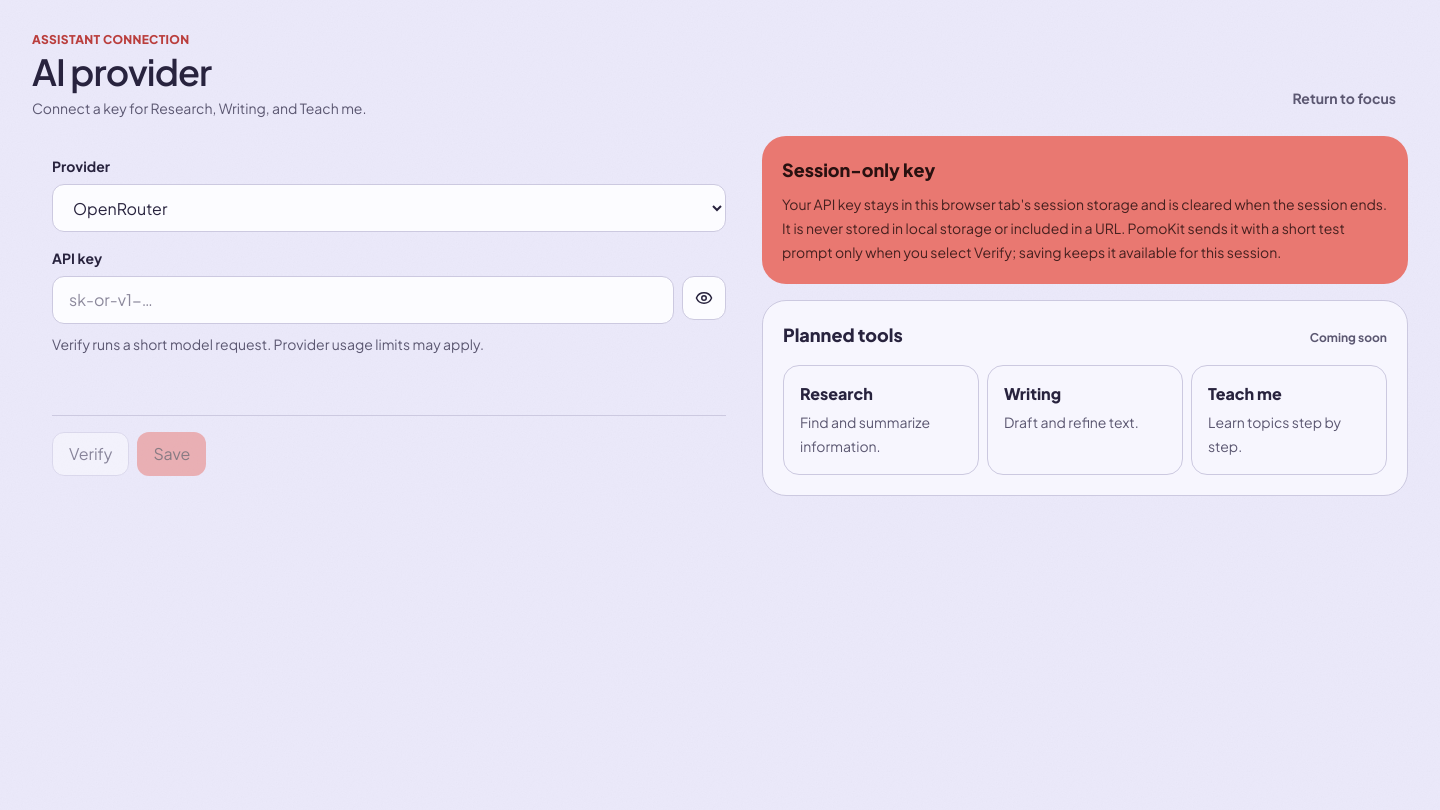
Test: AssistantSettings › shows the provider error in the verification dialog
This screenshot has width=1440, height=810.
Type "sk-or-invalid-token-12345" into the password field labelled "API key" at x=363, y=300, box [52,276,674,324]
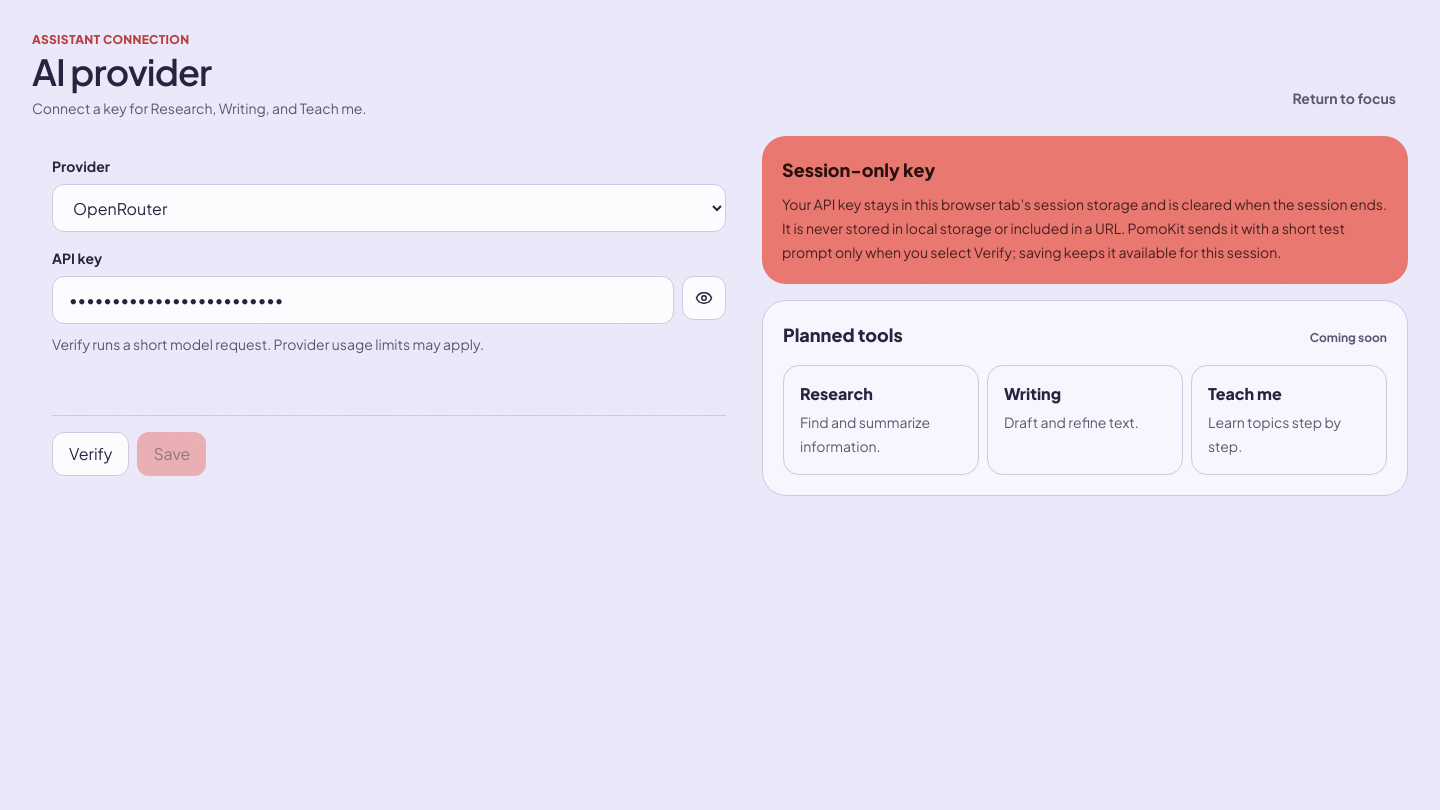
Click the button "Verify" at x=91, y=454, box [52,432,129,476]
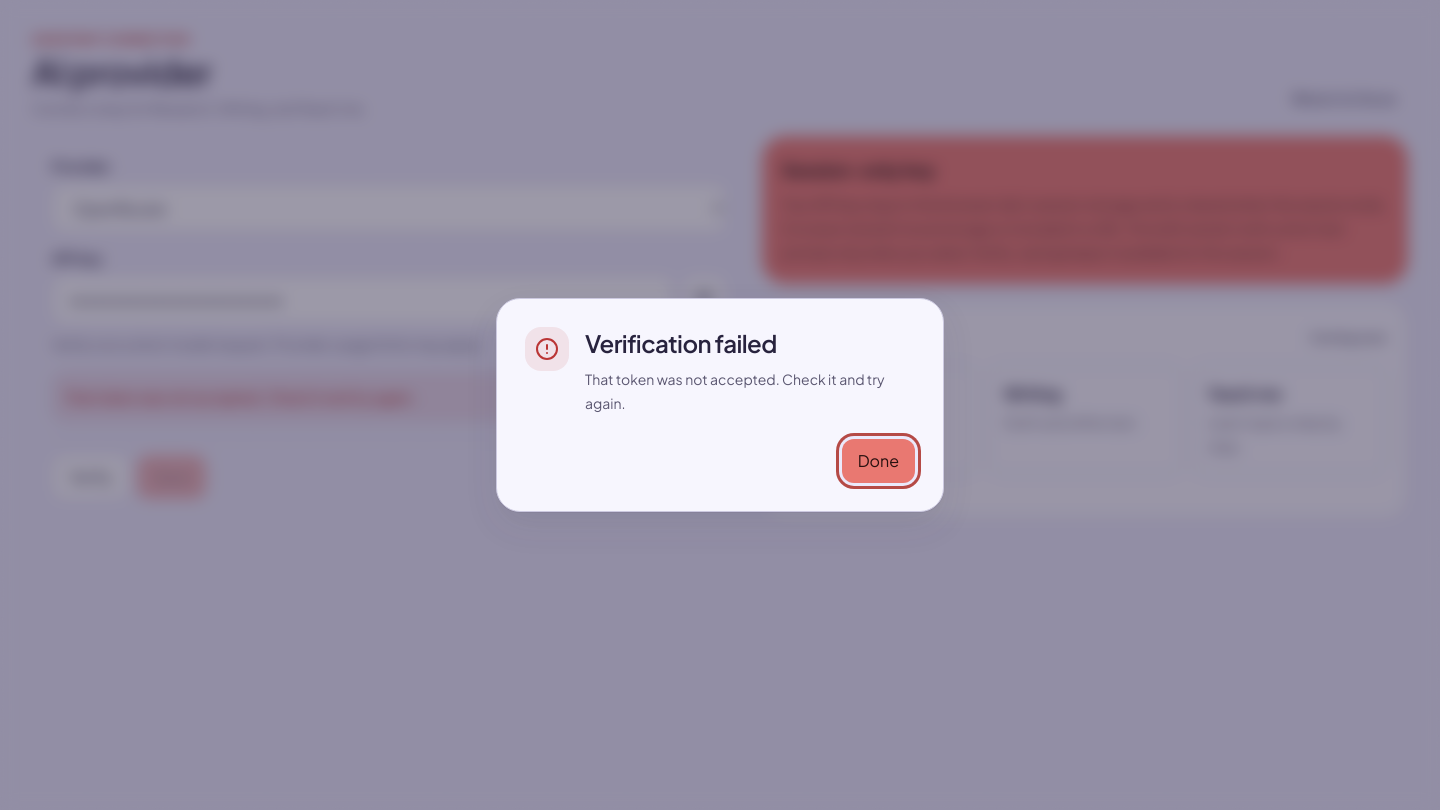
Expected: the dialog shows "Verification failed", [585,328,777,358]
Expected: the dialog shows "That token was not accepted. Check it and try again.", [585,370,884,412]
